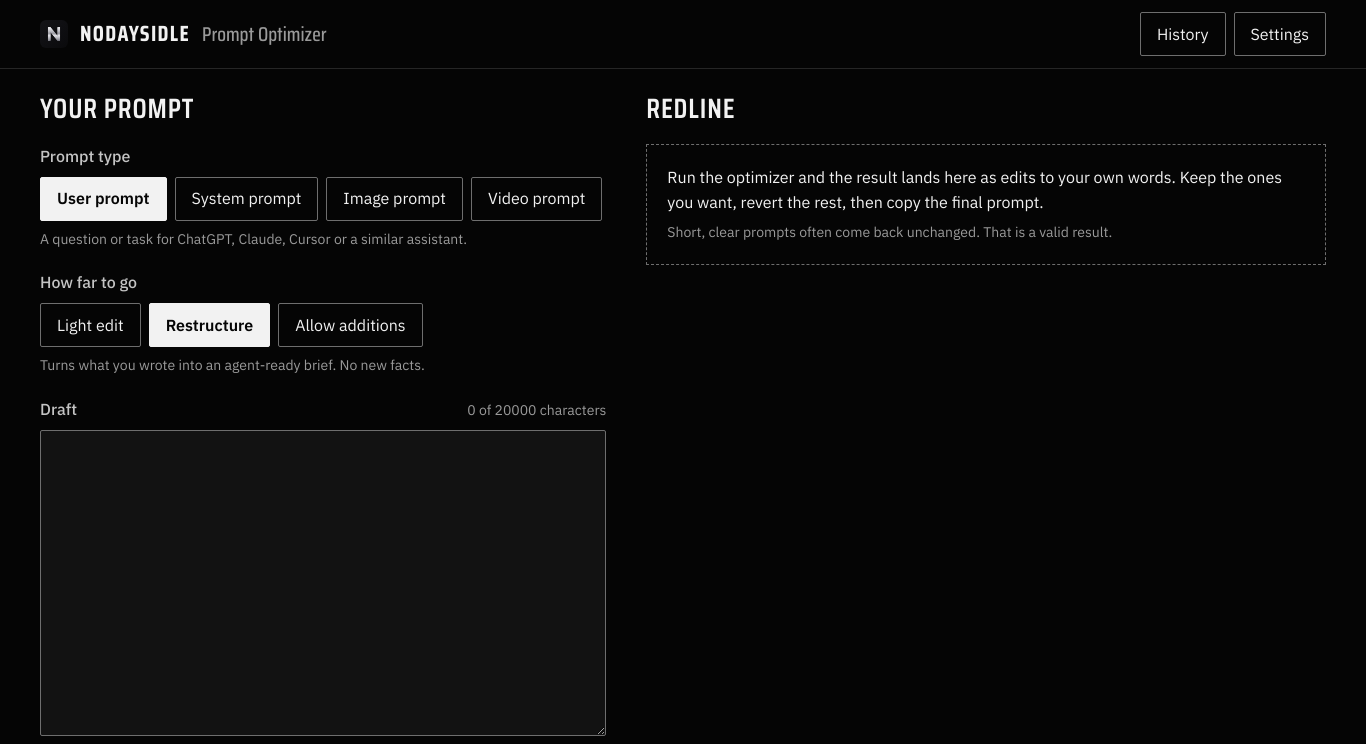
Test: running the optimizer › shows the result as an edit to the submitted text, with the final prompt built from it
This screenshot has width=1366, height=744.
Type "Translate hello into French." into the text box labelled "Draft" at coordinates (323, 583), box [40, 430, 606, 736]
(page scrolled)
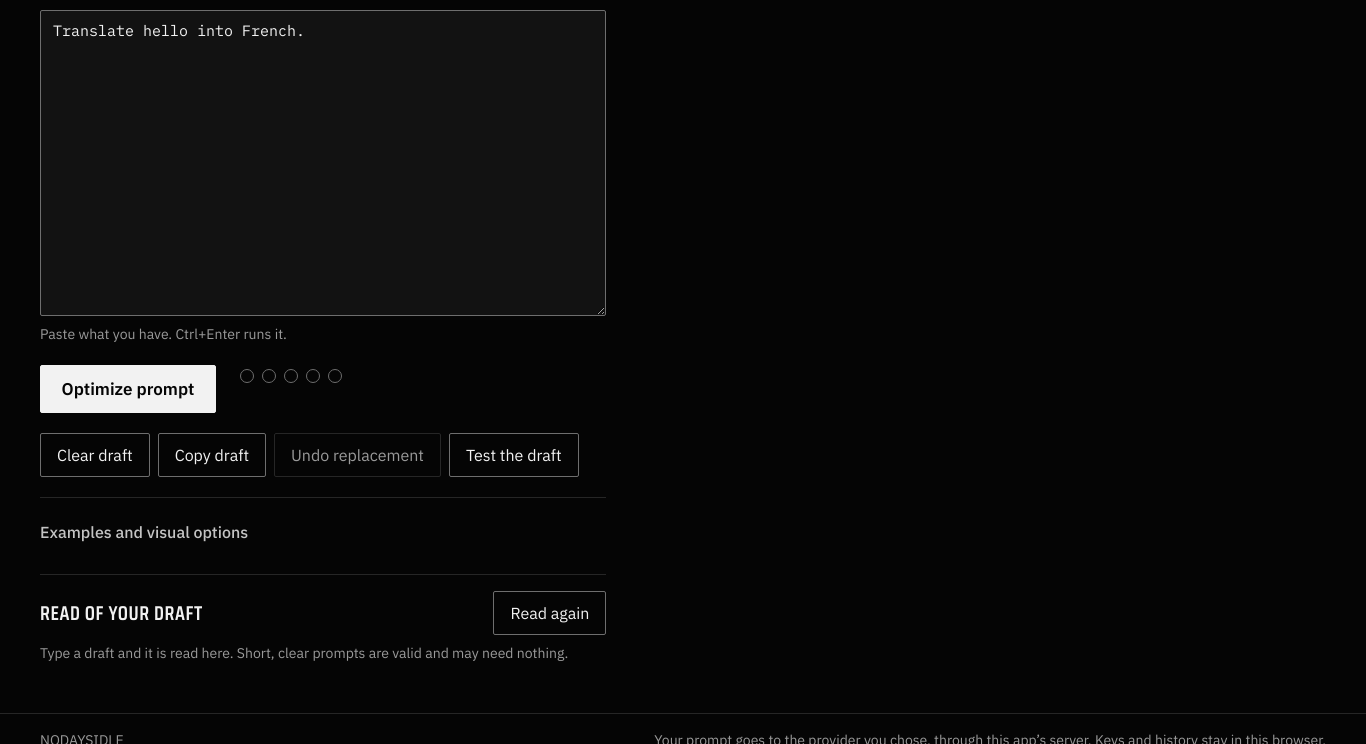
Click the button "Optimize prompt" at coordinates (128, 389), box [40, 365, 216, 413]
(page scrolled)
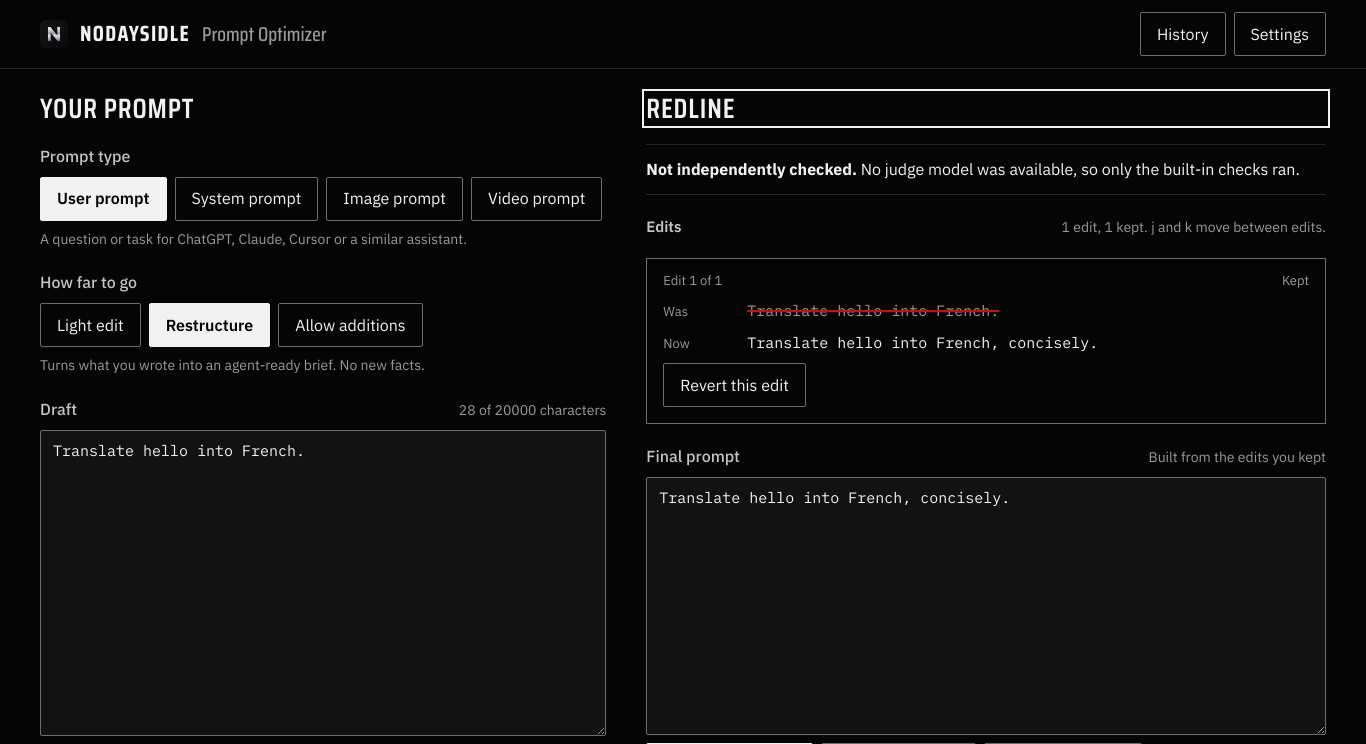
Now the text "Edit 1 of 1" is shown, box [663, 271, 1309, 291]
Now the element labelled "Edit 1 of 1" shows "Translate hello into French.", box [747, 301, 999, 320]
Now the text box labelled "Final prompt" holds "Translate hello into French, concisely.", box [646, 477, 1326, 735]
